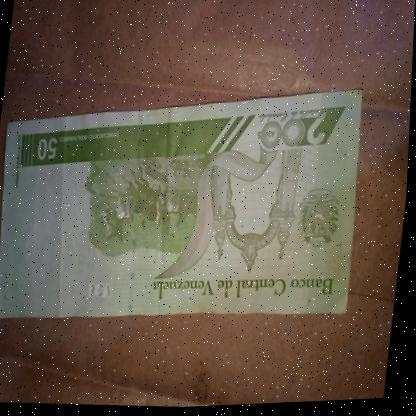fifty-back-vef: (0, 67, 374, 345)
